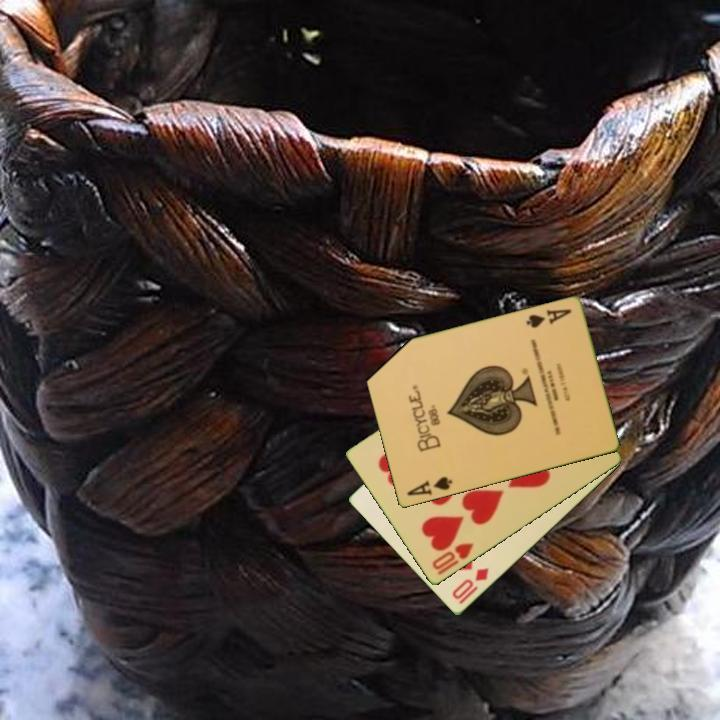10d: (448, 565, 492, 603)
10h: (428, 539, 477, 579)
As: (403, 473, 455, 499), (522, 306, 574, 332)
